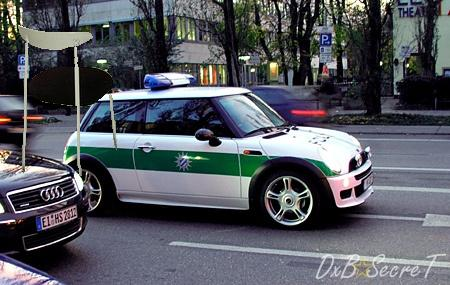tampered: (19, 26, 117, 176)
